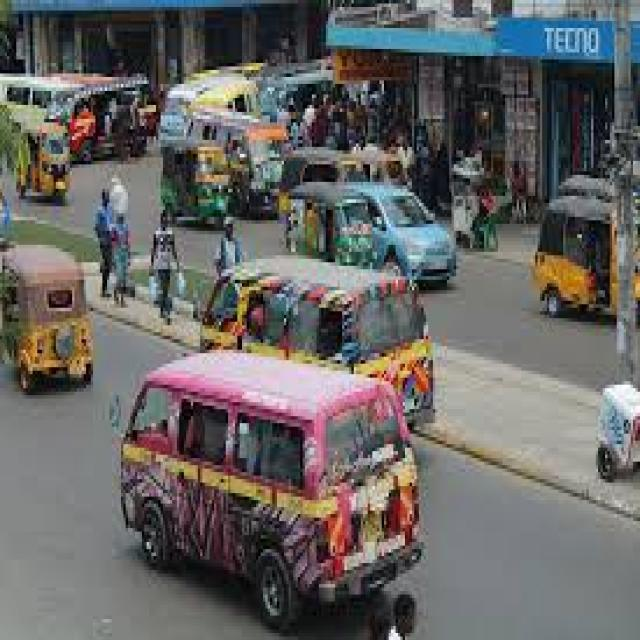matatu: (104, 348, 426, 635), (183, 240, 450, 346), (71, 73, 159, 155), (232, 113, 282, 220)
tuktuk: (0, 241, 100, 399), (531, 178, 622, 325), (156, 126, 242, 232), (286, 175, 389, 260), (9, 113, 73, 207)
